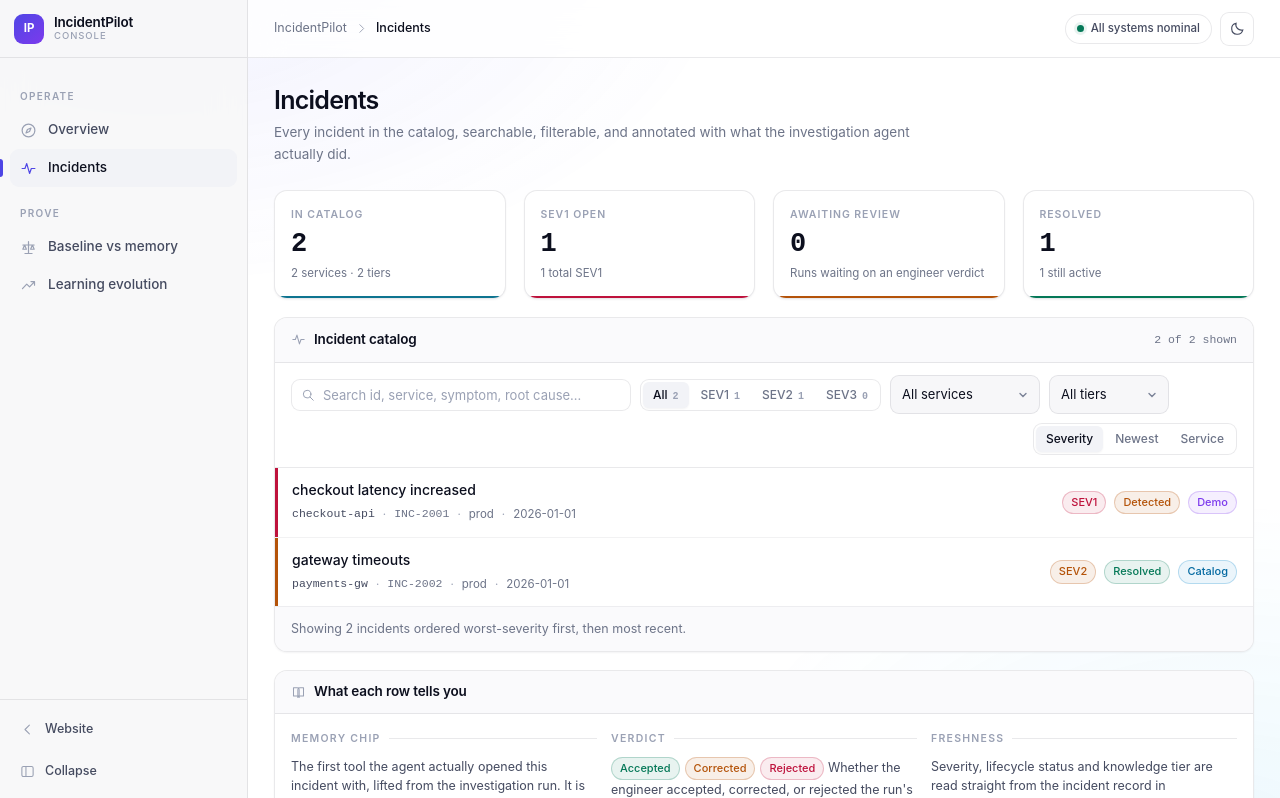
Test: Incident catalog › narrows to a single service
The width and height of the screenshot is (1280, 798).
Check: the text "checkout latency increased" is shown, box [292,481,476,498]
Select "checkout-api" in the dropdown named "Filter by service". click: (965, 395)
box: [890,375,1040,414]
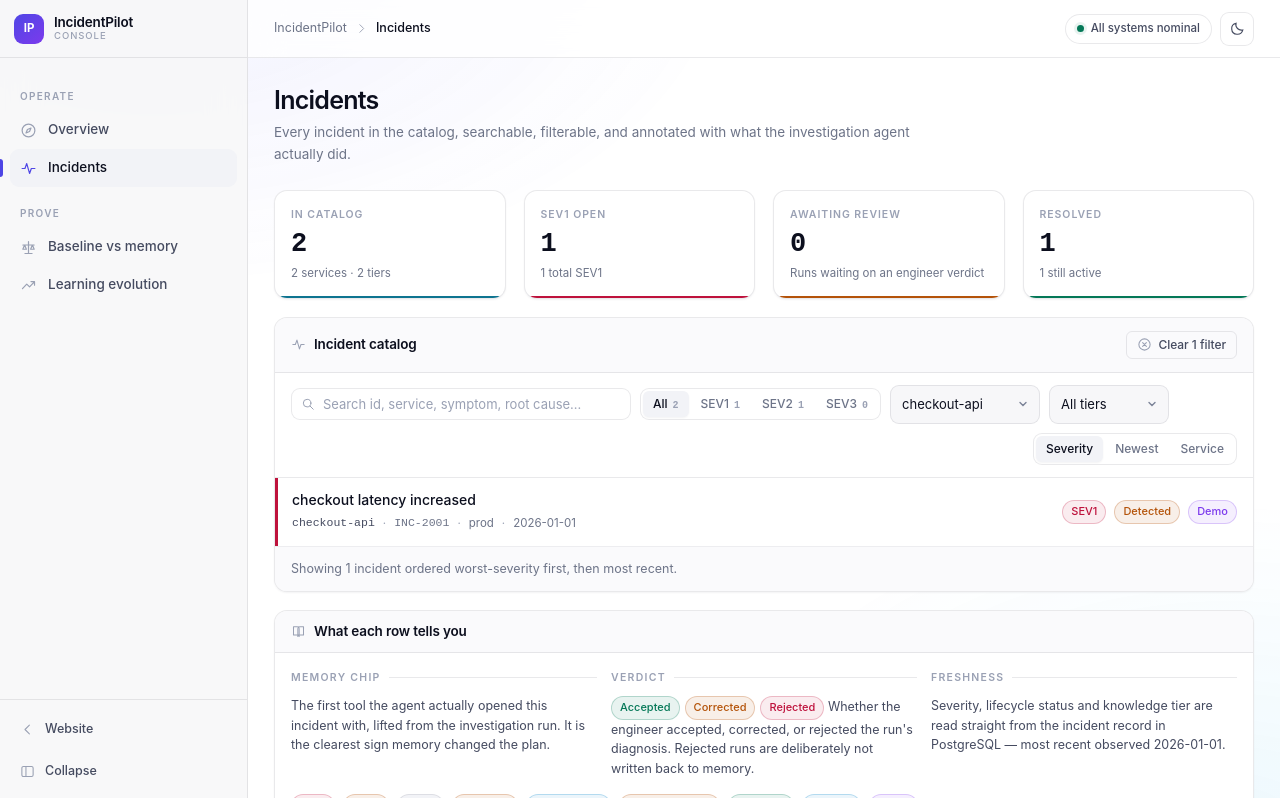
Check: the text "checkout latency increased" is shown, box [292,490,476,508]
Check: the link "gateway timeouts" is gone
